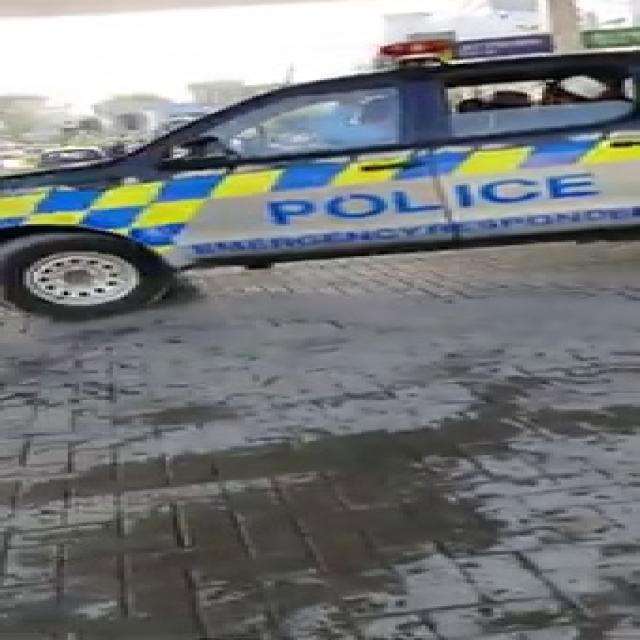police: (14, 0, 640, 285)
